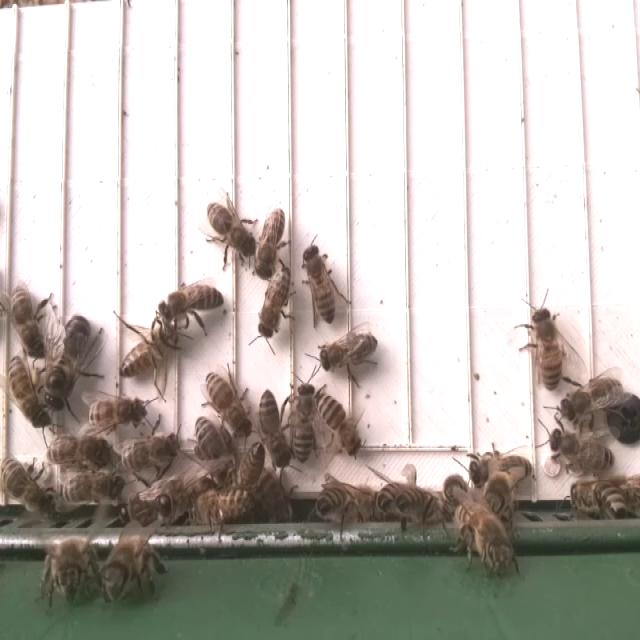Drone: (42, 312, 93, 415)
Worker: (546, 426, 617, 482), (202, 367, 254, 442), (526, 302, 567, 392), (202, 197, 255, 260), (114, 328, 178, 380), (561, 374, 625, 426), (158, 278, 224, 328), (314, 392, 364, 458), (299, 242, 339, 324), (8, 276, 45, 361), (5, 355, 46, 431), (117, 432, 182, 479), (257, 386, 291, 472), (256, 266, 294, 342), (466, 445, 534, 487), (251, 205, 287, 282), (318, 331, 381, 375), (56, 469, 124, 508), (289, 378, 319, 466), (46, 430, 115, 468), (85, 394, 147, 434)
